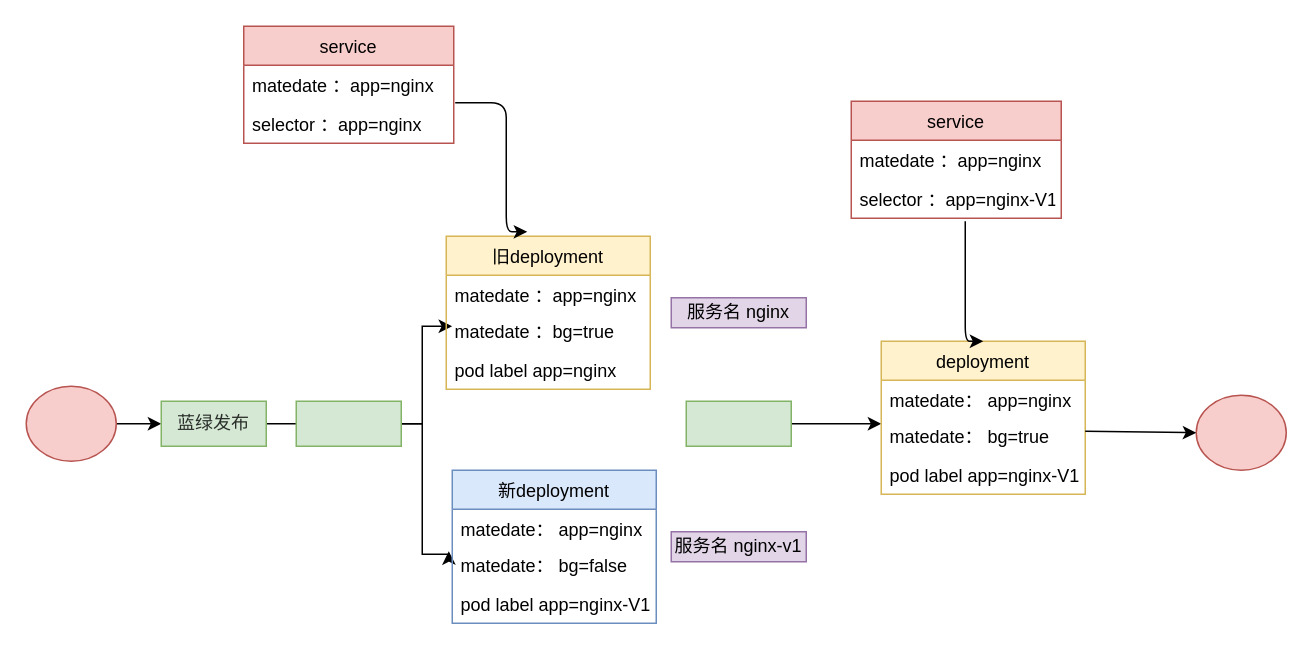
This 1313x654 diagram has some shape labels left out. Each missing label, with the centre of its shape:
发布中: the point at 348,423
开始: the point at 70,423
确认发布: the point at 738,423
结束: the point at 1240,432
